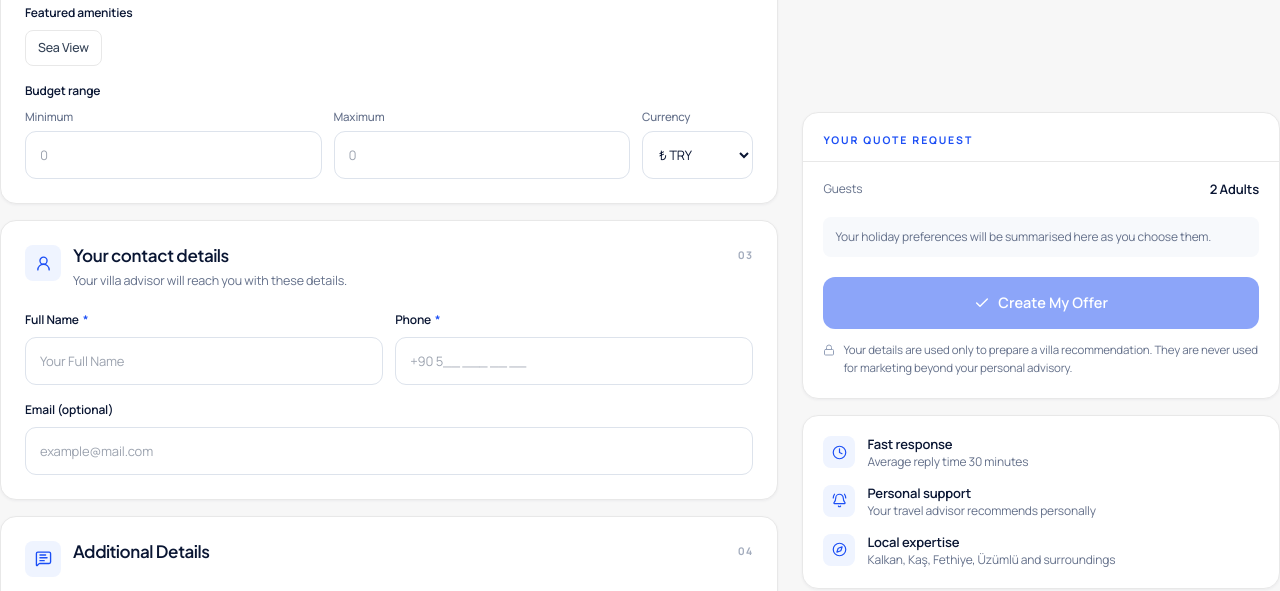
Test case: 2) UI redesign sonrası mevcut form state ve submit davranışı DEĞİŞMEDİ › sunucu hatası → mevcut kırmızı alert + generic mesaj; buton tekrar aktif
(page scrolled)
Type "John" into the field with placeholder "Your Full Name".
click(204, 361); type("John")  # box [25,337,383,385]
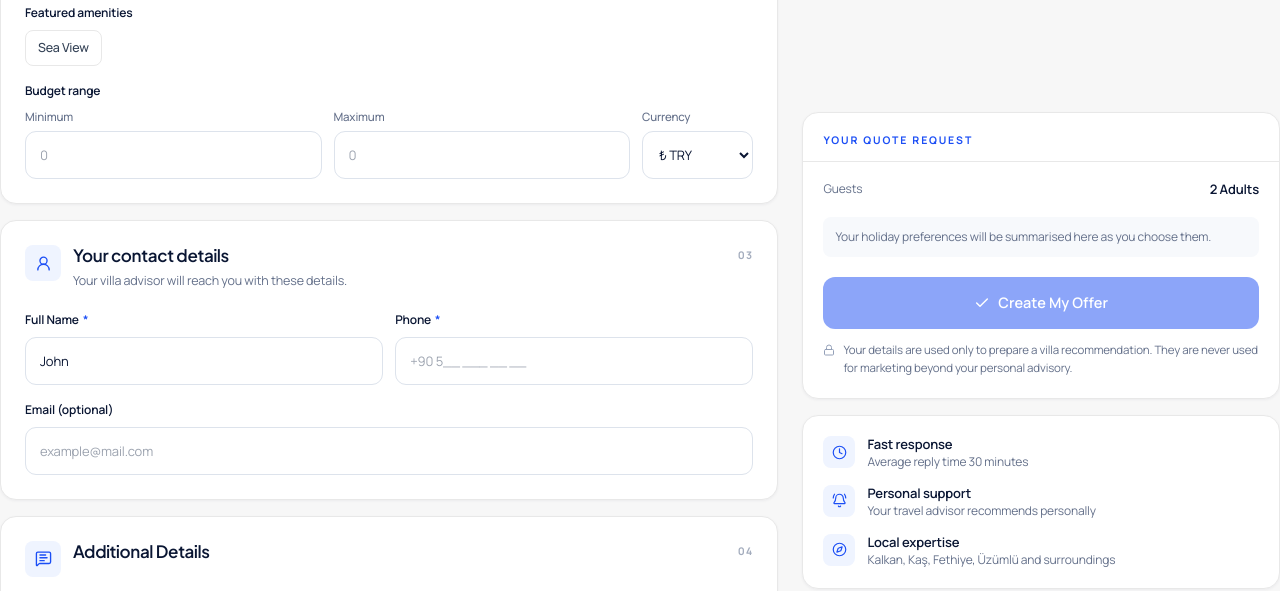
Type "1234567" into the field with placeholder "+90 5__ ___ __ __".
click(574, 361); type("1234567")  # box [395,337,753,385]
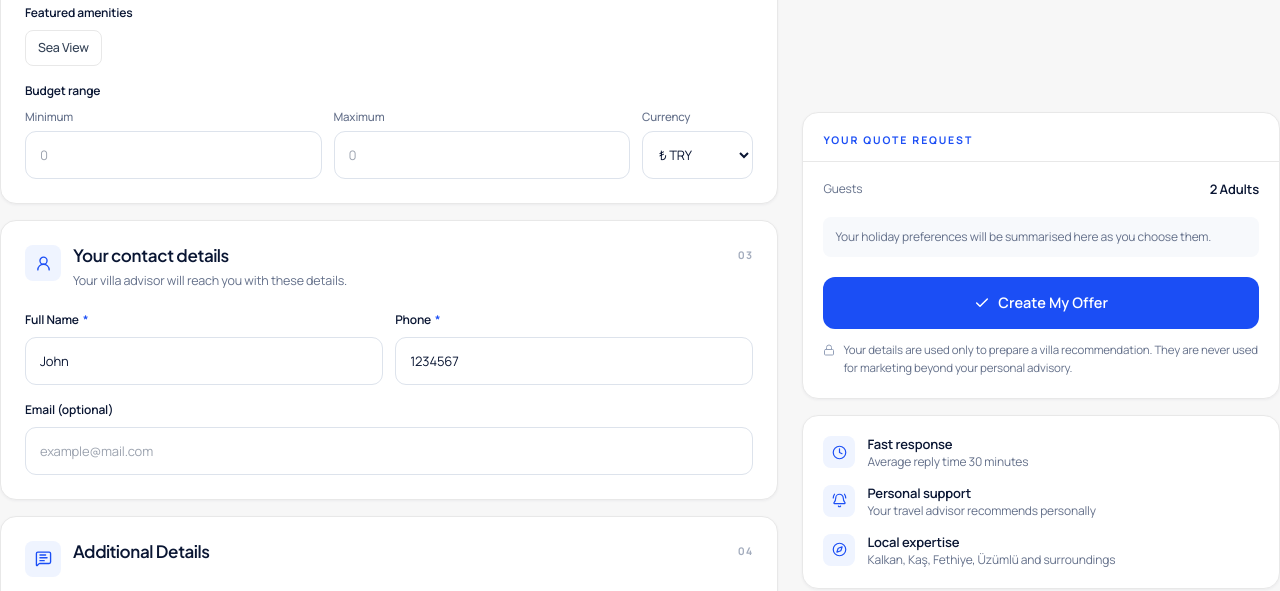
Click the button "Create My Offer".
click(1041, 303)  # box [823,277,1259,329]
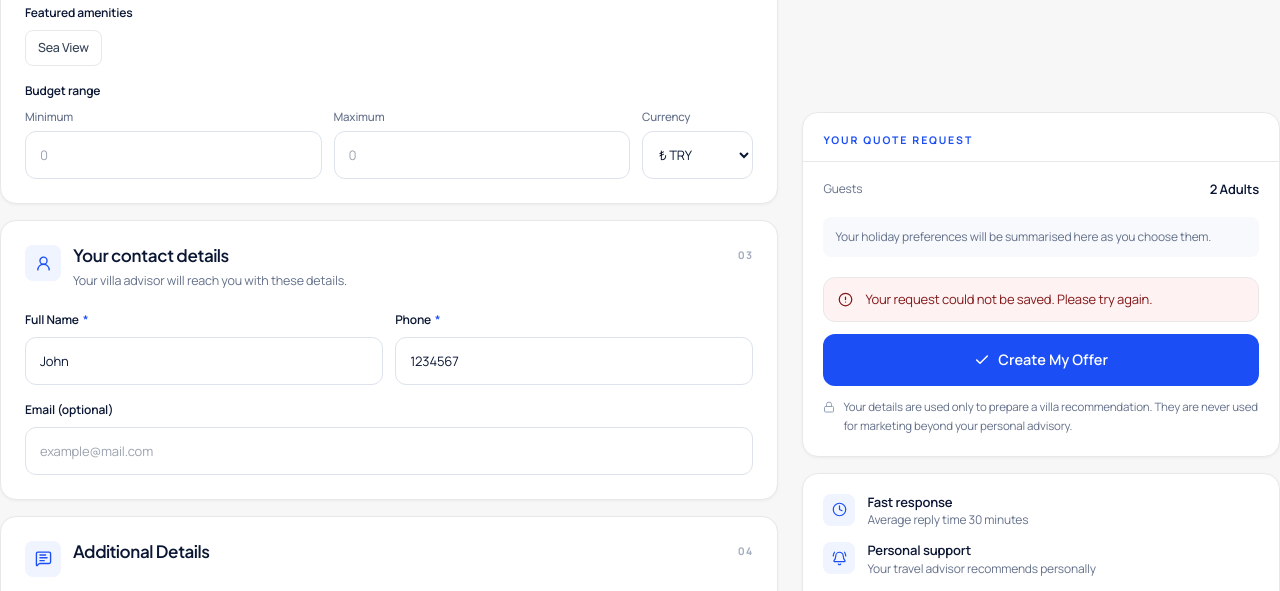
Expected: the button "Create My Offer" is enabled, [823,334,1259,386]
Expected: the message reads "Your request could not be saved. Please try again.", [865,290,1152,308]
